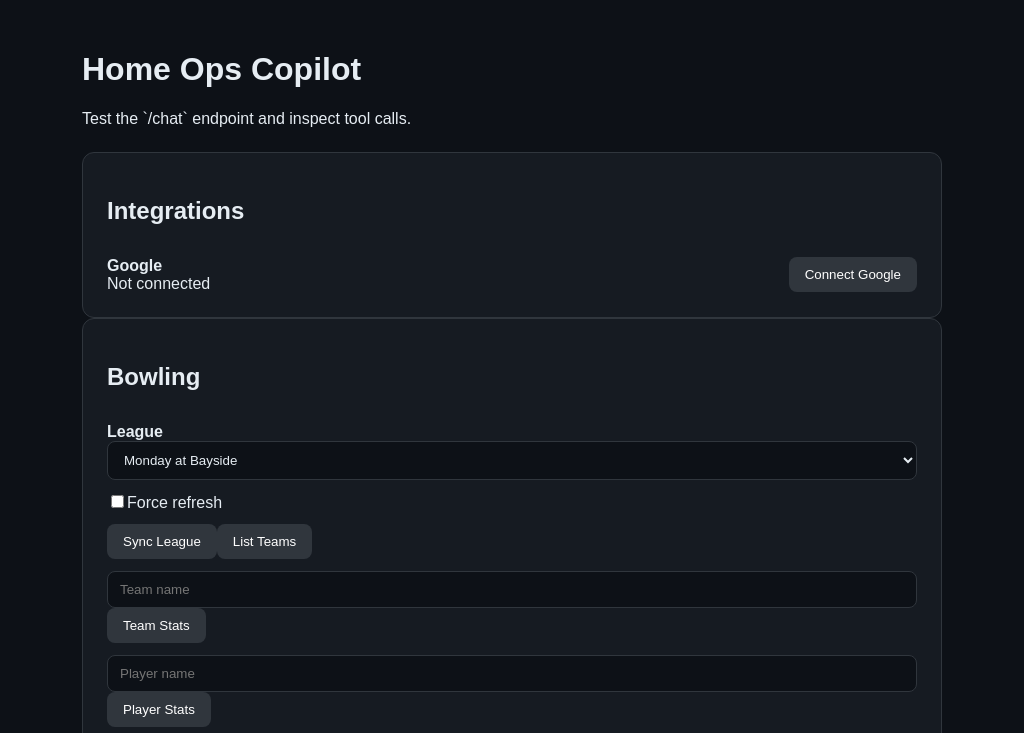
Test: HomePage › loads bowling teams
What coordinates should you click on to do the following:
click the button "List Teams"
I would click on:
 (265, 541)
Its box is [217,524,312,558].
(page scrolled)
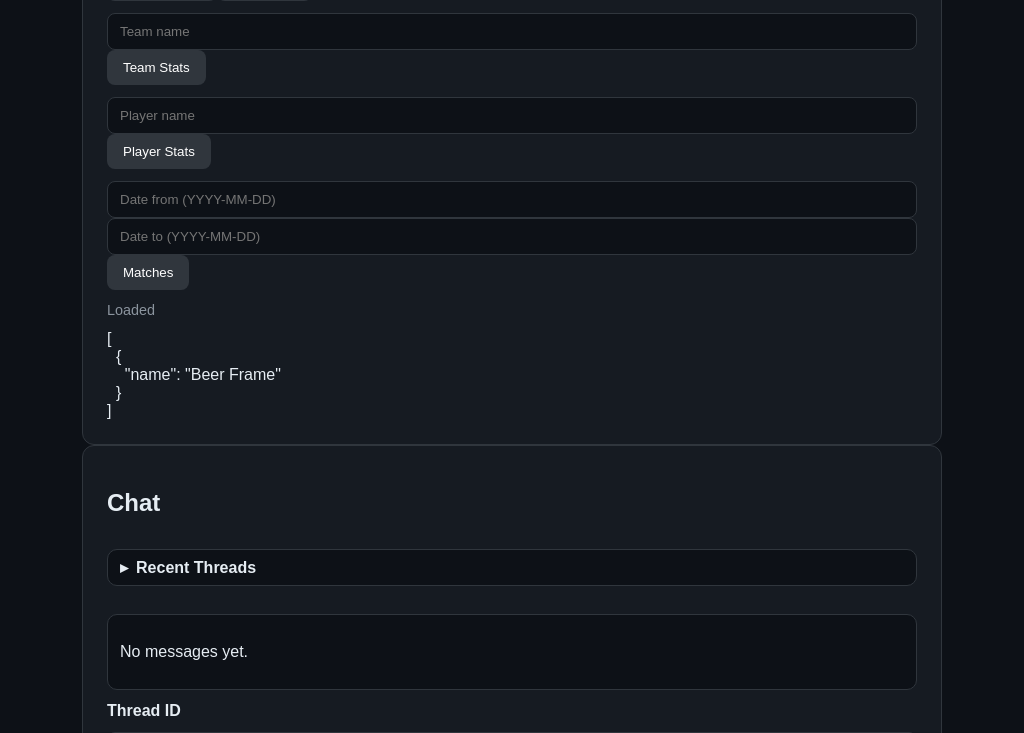
Check: the text "[ { \"name\": \"Beer Frame\" } ]" is shown, box [107,330,281,418]
